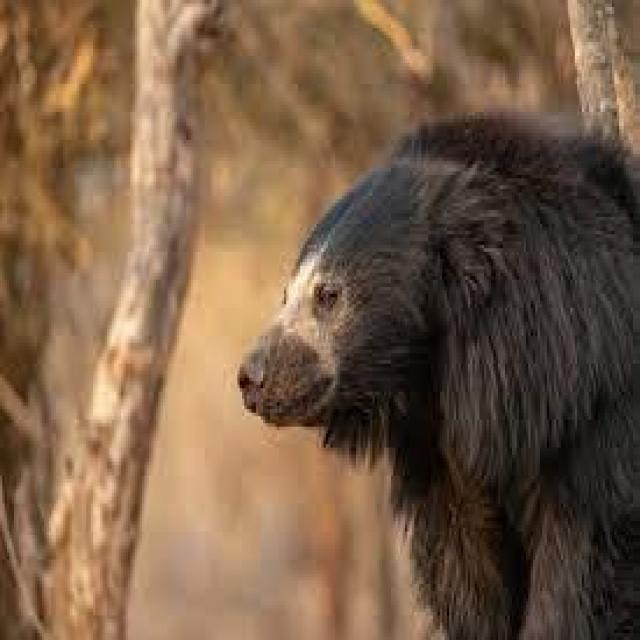Bear: (240, 112, 640, 640)
